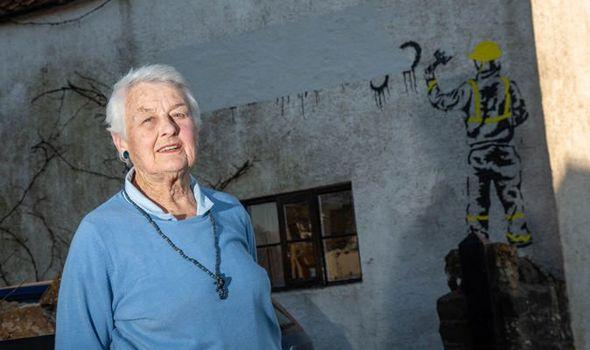graffiti: (398, 35, 546, 247)
